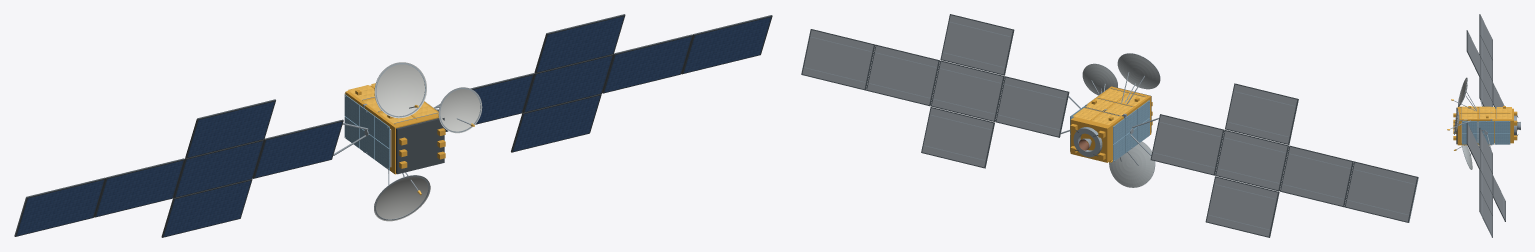
The model's file is ref-spacebus-4000c3-28526.glb.
The picture shows the model from 3 angles, left to right: view 1: azimuth 30°, elevation 25°; view 2: azimuth 150°, elevation 25°; view 3: azimuth 270°, elevation 25°; orthographic projection. The views are drawn at different scales.
Parts seen in each view (by area): view 1: Solar cell panel (×12), Solar panel frame (×11), AMC-12 reflector 2 face, Earth-facing deck, AMC-12 reflector 1 face, AMC-12 reflector 3 face, Payload module; view 2: Rear array substrate (×12), Solar panel frame (×12), AMC-12 reflector 1 insulated back, Service module, AMC-12 reflector 2 insulated back, AMC-12 reflector 3 insulated back, Payload module, Launch adapter ring; view 3: Rear array substrate (×12), Radiator tile bay (×6), Solar panel frame (×11), Overlapping thermal blanket (×6), Payload module, Service module, AMC-12 reflector 1 insulated back, AMC-12 reflector 2 face, AMC-12 reflector 2 edge, Radiator face.
Part boxes in pixels (x1,y1,x2,y2): Solar cell panel (×12): (16, 16, 770, 236); Solar panel frame (×11): (15, 14, 772, 237); AMC-12 reflector 2 face: (375, 62, 426, 118); Earth-facing deck: (396, 118, 444, 174); AMC-12 reflector 1 face: (374, 175, 430, 221); AMC-12 reflector 3 face: (439, 87, 482, 133); Payload module: (364, 101, 438, 174); Rear array substrate (×12): (802, 15, 1416, 236); Solar panel frame (×12): (801, 14, 1418, 237); AMC-12 reflector 1 insulated back: (1109, 141, 1154, 187); Service module: (1070, 107, 1123, 162); AMC-12 reflector 2 insulated back: (1117, 53, 1159, 89); AMC-12 reflector 3 insulated back: (1082, 64, 1117, 95); Payload module: (1087, 86, 1151, 134); Launch adapter ring: (1073, 127, 1102, 157); Rear array substrate (×12): (1467, 15, 1505, 236); Radiator tile bay (×6): (1462, 121, 1510, 144); Solar panel frame (×11): (1466, 14, 1505, 237); Overlapping thermal blanket (×6): (1462, 107, 1511, 118); Payload module: (1457, 106, 1490, 145); Service module: (1492, 108, 1513, 143); AMC-12 reflector 1 insulated back: (1462, 145, 1472, 169); AMC-12 reflector 2 face: (1458, 77, 1466, 106); AMC-12 reflector 2 edge: (1458, 78, 1467, 106); Radiator face: (1461, 122, 1478, 142).
Bounding box in the file's own units: 38 × 7.87 × 5.98.
Materials: 11 (2 with a texture image).
